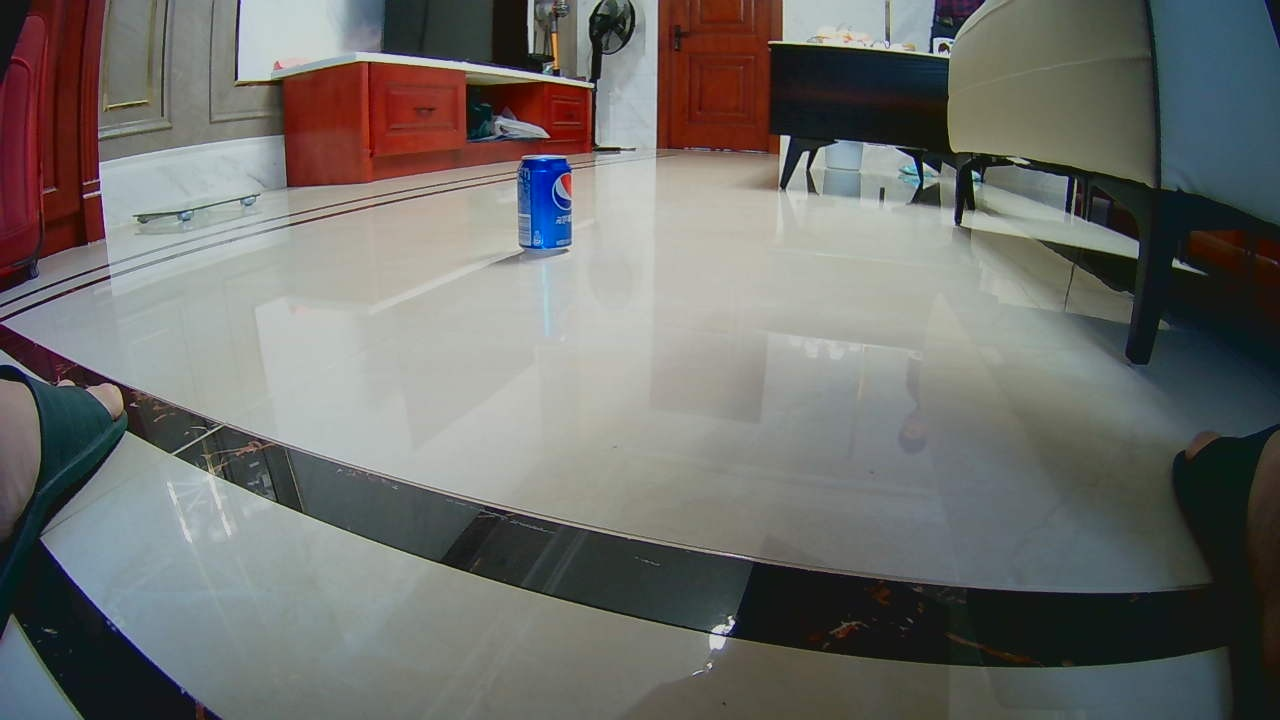pessi: (518, 161, 571, 256)
